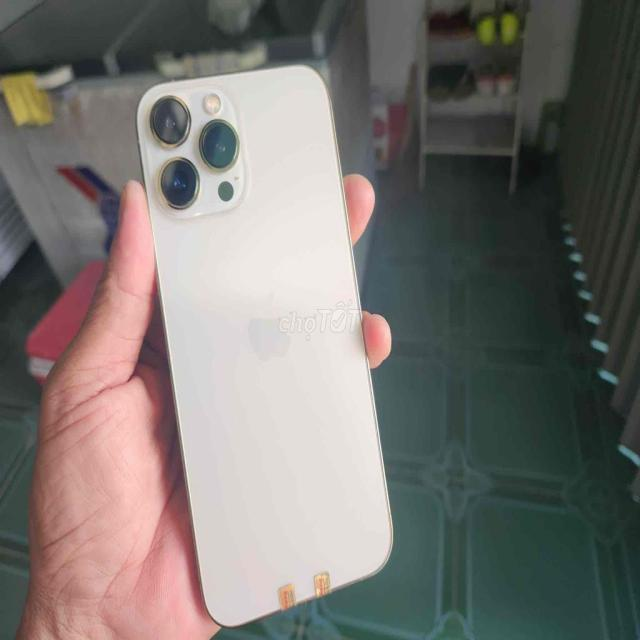gen_12_13: (132, 57, 396, 630)
